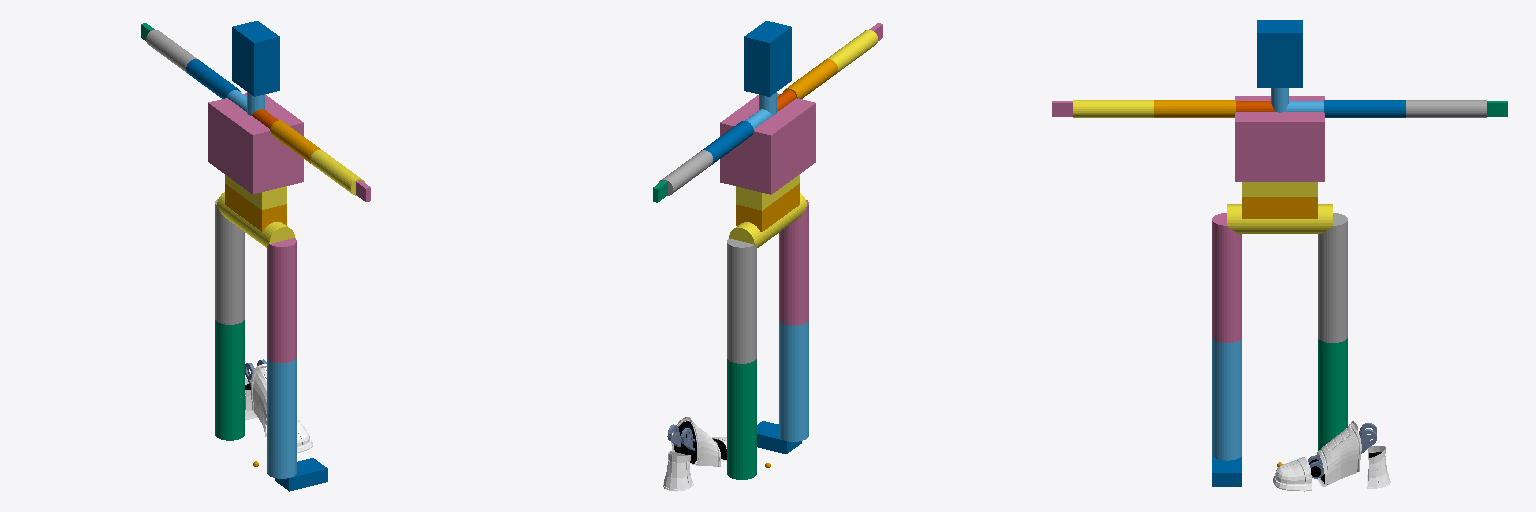
robot.urdf — humanMeshed:
<?xml version="1.0"?>
<robot name="humanMeshed">

  <link name="base_link">
    <visual>
      <geometry>
        <sphere radius="0.01"/>
      </geometry>
    </visual>
  </link>

<!--   HIP starts here  -->
  <link name="hip_roll"/>

  <joint name="hip_roll" type="continuous">
    <parent link="base_link" />
    <child link="hip_roll" />
    <origin xyz="0 0 0.90"/>
    <axis xyz="1.0 0 0"/>
  </joint>

  <link name="hip_pitch">
    
  </link>

  <joint name="hip_pitch" type="continuous">
    <parent link="hip_roll"/>
    <child link="hip_pitch"/>
    <origin xyz="0 0 0"/>
    <axis xyz="0 1.0 0"/>
  </joint>

  <link name="hip_yaw">
        <visual>
      <geometry>  
        <cylinder length="0.352" radius="0.05"/>
     </geometry>
      <origin rpy="1.57075 0 0" xyz="0 0 0" />
    </visual>
  </link>

  <joint name="hip_yaw" type="continuous">
    <parent link="hip_pitch"/>
    <child link="hip_yaw"/>
    <origin xyz="0 0 0"/>
    <axis xyz="0 0 1.0"/>
  </joint>

 <!--           HIP ENDS HERE        -->
 <!--      RIGHT THIGH STARTS HERE    -->
 <joint name="right_thigh_roll" type="continuous">
    <parent link="hip_yaw"/>
    <child link="right_thigh_roll"/>
    <origin xyz="0 -0.175 0"/>
    <axis xyz="1.0 0 0"/>
 </joint>

 <link name="right_thigh_roll"/>

 <joint name="right_thigh_pitch" type="continuous">
    <parent link="right_thigh_roll"/>
    <child link="right_thigh_pitch"/>
    <origin xyz="0 0 0"/>
    <axis xyz="0 1.0 0"/>
 </joint>

 <link name="right_thigh_pitch"/>

 <joint name="right_thigh_yaw" type="continuous">
    <parent link="right_thigh_pitch"/>
    <child link="right_thigh_yaw"/>
    <origin xyz="0 0 0"/>
    <axis xyz="0 0 1.0"/>
 </joint>

  <link name="right_thigh_yaw">
    <visual>
      <geometry>
        <cylinder length="0.43" radius="0.05"/>
      </geometry>      
      <origin rpy="0 0 0" xyz="0 0 -0.215"/>    
    </visual>
  </link>
<!--       RIGHT THIGH ENDS HERE       -->
<!--       RIGHT KNEE STARTS HERE      -->
<joint name="right_knee_roll" type="continuous">
  <parent link="right_thigh_yaw"/>
  <child link="right_knee_roll"/>
  <origin xyz="0 0 -0.43"/>
  <axis xyz="1.0 0 0"/>
</joint>

<link name="right_knee_roll"/>

<joint name="right_knee_pitch" type="continuous">
  <parent link="right_knee_roll"/>
  <child link="right_knee_pitch"/>
  <origin xyz="0 0 0"/>
  <axis xyz="0 1.0 0"/>
</joint>

<link name="right_knee_pitch"/>

<joint name="right_knee_yaw" type="continuous">
  <parent link="right_knee_pitch"/>
  <child link="right_knee_yaw"/>
  <origin xyz="0 0 0"/>
  <axis xyz="0 0 1.0"/>
</joint>

<link name="right_knee_yaw">
  <visual>
    <geometry>
      <cylinder length="0.43" radius="0.05"/>
    </geometry>      
    <origin rpy="0 0 0" xyz="0 0 -0.215"/>    
  </visual>
</link>
<!--         RIGHT KNEE ENDS HERE   -->
<!--         RIGHT FOOT STARTS HERE -->
<joint name="right_foot_roll" type="continuous">
  <parent link="right_knee_yaw"/>
  <child link="right_foot_roll"/>
  <origin xyz="0 0 -0.43"/>
  <axis xyz="1.0 0 0"/>
</joint> 

<link name="right_foot_roll"/>

<joint name="right_foot_pitch" type="continuous">
  <parent link="right_foot_roll"/>
  <child link="right_foot_pitch"/>
  <origin xyz="0 0 0"/>
  <axis xyz="0 1.0 0"/>
</joint> 

<link name="right_foot_pitch"/>

<joint name="right_foot_yaw" type="continuous">
  <parent link="right_foot_pitch"/>
  <child link="right_foot_yaw"/>
  <origin xyz="0 0 0"/>
  <axis xyz="0 0 1.0"/>
</joint> 

<link name="right_foot_yaw">
  <visual>
    <geometry>
        <box size="0.15 0.1 0.05"/>
    </geometry>
    <origin rpy="0 0 0" xyz="0.075 0 -0.025"/>    
   </visual>
</link>

<!--   RIGHT FOOT ENDS HERE   -->
<!--   LEFT THIGH STARTS HERE -->
 <joint name="left_thigh_roll" type="continuous">
    <parent link="hip_yaw"/>
    <child link="left_thigh_roll"/>
    <origin xyz="0 0.175 0"/>
    <axis xyz="1.0 0 0"/>
 </joint>

 <link name="left_thigh_roll"/>

 <joint name="left_thigh_pitch" type="continuous">
    <parent link="left_thigh_roll"/>
    <child link="left_thigh_pitch"/>
    <origin xyz="0 0 0"/>
    <axis xyz="0 1.0 0"/>
 </joint>

 <link name="left_thigh_pitch"/>

 <joint name="left_thigh_yaw" type="continuous">
    <parent link="left_thigh_pitch"/>
    <child link="left_thigh_yaw"/>
    <origin xyz="0 0 0"/>
    <axis xyz="0 0 1.0"/>
 </joint>

  <link name="left_thigh_yaw">
    <visual>
      <geometry>
        <cylinder length="0.43" radius="0.05"/>
        
      </geometry>      
      <origin rpy="0 0 0" xyz="0 0 -0.215"/>    
    </visual>
  </link>
<!--     LEFT THIGH ENDS HERE -->
<!--       LEFT KNEE STARTS HERE      -->
<joint name="left_knee_roll" type="continuous">
  <parent link="left_thigh_yaw"/>
  <child link="left_knee_roll"/>
  <origin xyz="0 0 -0.43"/>
  <axis xyz="1.0 0 0"/>
</joint>

<link name="left_knee_roll"/>

<joint name="left_knee_pitch" type="continuous">
  <parent link="left_knee_roll"/>
  <child link="left_knee_pitch"/>
  <origin xyz="0 0 0"/>
  <axis xyz="0 1.0 0"/>
</joint>

<link name="left_knee_pitch"/>

<joint name="left_knee_yaw" type="continuous">
  <parent link="left_knee_pitch"/>
  <child link="left_knee_yaw"/>
  <origin xyz="0 0 0"/>
  <axis xyz="0 0 1.0"/>
</joint>

<link name="left_knee_yaw">
  <visual>
    <geometry>
      <cylinder length="0.43" radius="0.05"/>
    </geometry>      
    <origin rpy="0 0 0" xyz="0 0 -0.215"/>    
  </visual>
</link>
<!--         left KNEE ENDS HERE   -->
<!--         left FOOT STARTS HERE -->
<joint name="left_foot_roll" type="continuous">
  <parent link="left_knee_yaw"/>
  <child link="left_foot_roll"/>
  <origin xyz="0 0 -0.43"/>
  <axis xyz="1.0 0 0"/>
</joint> 

<link name="left_foot_roll"/>

<joint name="left_foot_pitch" type="continuous">
  <parent link="left_foot_roll"/>
  <child link="left_foot_pitch"/>
  <origin xyz="0 0 0"/>
  <axis xyz="0 1.0 0"/>
</joint> 

<link name="left_foot_pitch"/>

<joint name="left_foot_yaw" type="continuous">
  <parent link="left_foot_pitch"/>
  <child link="left_foot_yaw"/>
  <origin xyz="0 0 0"/>
  <axis xyz="0 0 1.0"/>
</joint> 

<link name="left_foot_yaw">
  <visual>
    <geometry>
      <!--
        <box size="0.15 0.1 0.05"/>
      -->
      <mesh filename="package://online_tempo/models/humanMeshed/meshes/leftFoot.dae" scale="0.1 0.1 0.1"/>
    </geometry>
    <origin rpy="0 0 0" xyz="0.075 0 -0.025"/>    
   </visual>
</link>
<!--   left FOOT ENDS HERE   -->
<!--   lower_spine STARTS HERE   -->
<joint name="lower_spine_roll" type="continuous">
  <parent link="hip_yaw"/>
  <child link="lower_spine_roll"/>
  <origin xyz="0 0 0.025"/>
  <axis xyz="1.0 0 0"/>
</joint>

<link name="lower_spine_roll"/>

<joint name="lower_spine_pitch" type="continuous">
  <parent link="lower_spine_roll"/>
  <child link="lower_spine_pitch"/>
  <origin xyz="0 0 0"/>
  <axis xyz="0 1.0 0"/>
</joint>

<link name="lower_spine_pitch"/>

<joint name="lower_spine_yaw" type="continuous">
  <parent link="lower_spine_pitch"/>
  <child link="lower_spine_yaw"/>
  <origin xyz="0 0 0"/>
  <axis xyz="0 0 1.0"/>
</joint>


<link name="lower_spine_yaw">
  <visual>
    <geometry>
        <box size="0.10 0.25 0.08"/>
    </geometry>
    <origin rpy="0 0 0" xyz="0 0 0.04"/>    
  </visual>
</link>

<!--  lower_spine ENDS HERE     -->
<!--  middle_spine Starts here  -->
<joint name="middle_spine_roll" type="continuous">
  <parent link="lower_spine_yaw"/>
  <child link="middle_spine_roll"/>
  <origin xyz="0 0 0.08"/>
  <axis xyz="1.0 0 0"/>
</joint>

<link name="middle_spine_roll"/>

<joint name="middle_spine_pitch" type="continuous">
  <parent link="middle_spine_roll"/>
  <child link="middle_spine_pitch"/>
  <origin xyz="0 0 0"/>
  <axis xyz="0 1.0 0"/>
</joint>

<link name="middle_spine_pitch"/>

<joint name="middle_spine_yaw" type="continuous">
  <parent link="middle_spine_pitch"/>
  <child link="middle_spine_yaw"/>
  <origin xyz="0 0 0"/>
  <axis xyz="0 0 1.0"/>
</joint>

<link name="middle_spine_yaw">
  <visual>
    <geometry>
        <box size="0.10 0.25 0.08"/>
    </geometry>
    <origin rpy="0 0 0" xyz="0 0 0.04"/>    
  </visual>
</link>

<!--  middle_spine Ends here    -->
<!--  CHEST STARTS HERE     -->
<joint name="chest_roll" type="continuous">
  <parent link="middle_spine_yaw"/>
  <child link="chest_roll"/>
  <origin xyz="0 0 0.08"/>
  <axis xyz="1.0 0 0"/>
</joint>

<link name="chest_roll"/>

<joint name="chest_pitch" type="continuous">
  <parent link="chest_roll"/>
  <child link="chest_pitch"/>
  <origin xyz="0 0 0"/>
  <axis xyz="0 1.0 0"/>
</joint>

<link name="chest_pitch"/>

<joint name="chest_yaw" type="continuous">
  <parent link="chest_pitch"/>
  <child link="chest_yaw"/>
  <origin xyz="0 0 0"/>
  <axis xyz="0 0 1.0"/>
</joint>

<link name="chest_yaw">
  <visual>
    <geometry>
        <box size="0.20 0.30 0.22"/>
    </geometry>
    <origin rpy="0 0 0" xyz="0 0 0.11"/>    
  </visual>
</link>
<!--     Chest ends here            -->
<!--     left clavicle starts here  -->
<joint name="left_clavicle_roll" type="continuous">
  <parent link="chest_yaw"/>
  <child link="left_clavicle_roll"/>
  <origin xyz="0 0.0125 0.22"/>
  <axis xyz="1.0 0 0"/>
</joint>

<link name="left_clavicle_roll"/>

<joint name="left_clavicle_pitch" type="continuous">
  <parent link="left_clavicle_roll"/>
  <child link="left_clavicle_pitch"/>
  <origin xyz="0 0 0"/>
  <axis xyz="0 1.0 0"/>
</joint>

<link name="left_clavicle_pitch"/>

<joint name="left_clavicle_yaw" type="continuous">
  <parent link="left_clavicle_pitch"/>
  <child link="left_clavicle_yaw"/>
  <origin xyz="0 0 0"/>
  <axis xyz="0 0 1.0"/>
</joint>

<link name="left_clavicle_yaw">
  <visual>
    <geometry>
      <cylinder length="0.135" radius="0.025"/> 
    </geometry>
    <origin rpy="1.57075 0 0" xyz="0 0.067 0" />
  </visual>
</link>
<!-- left clavicle ends here   -->
<!-- left shoulder starts here -->
<joint name="left_shoulder_roll" type="continuous">
  <parent link="left_clavicle_yaw"/>
  <child link="left_shoulder_roll"/>
  <origin xyz="0 0.135 0"/>
  <axis xyz="1.0 0 0"/>
</joint>

<link name="left_shoulder_roll"/>

<joint name="left_shoulder_pitch" type="continuous">
  <parent link="left_shoulder_roll"/>
  <child link="left_shoulder_pitch"/>
  <origin xyz="0 0 0"/>
  <axis xyz="0 1.0 0"/>
</joint>

<link name="left_shoulder_pitch"/>

<joint name="left_shoulder_yaw" type="continuous">
  <parent link="left_shoulder_pitch"/>
  <child link="left_shoulder_yaw"/>
  <origin xyz="0 0 0"/>
  <axis xyz="0 0 1.0"/>
</joint>

<link name="left_shoulder_yaw">
  <visual>
    <geometry>
      <cylinder length="0.27" radius="0.030"/> 
    </geometry>
    <origin rpy="1.57075 0 0" xyz="0 0.135 0" />
  </visual>
</link>
<!-- left shoulder ends here -->
<!-- left elbow starts here -->
<joint name="left_elbow_roll" type="continuous">
  <parent link="left_shoulder_yaw"/>
  <child link="left_elbow_roll"/>
  <origin xyz="0 0.27 0"/>
  <axis xyz="1.0 0 0"/>
</joint>

<link name="left_elbow_roll"/>

<joint name="left_elbow_pitch" type="continuous">
  <parent link="left_elbow_roll"/>
  <child link="left_elbow_pitch"/>
  <origin xyz="0 0 0"/>
  <axis xyz="0 1.0 0"/>
</joint>

<link name="left_elbow_pitch"/>

<joint name="left_elbow_yaw" type="continuous">
  <parent link="left_elbow_pitch"/>
  <child link="left_elbow_yaw"/>
  <origin xyz="0 0 0"/>
  <axis xyz="0 0 1.0"/>
</joint>

<link name="left_elbow_yaw">
  <visual>
    <geometry>
      <cylinder length="0.27" radius="0.030"/> 
    </geometry>
    <origin rpy="1.57075 0 0" xyz="0 0.135 0" />
  </visual>
</link>
<!-- left elbow ends here   -->
<!-- left hand starts here  -->
<joint name="left_hand_roll" type="continuous">
  <parent link="left_elbow_yaw"/>
  <child link="left_hand_roll"/>
  <origin xyz="0 0.24 0"/>
  <axis xyz="1.0 0 0"/>
</joint>

<link name="left_hand_roll"/>

<joint name="left_hand_pitch" type="continuous">
  <parent link="left_hand_roll"/>
  <child link="left_hand_pitch"/>
  <origin xyz="0 0 0"/>
  <axis xyz="0 1.0 0"/>
</joint>

<link name="left_hand_pitch"/>

<joint name="left_hand_yaw" type="continuous">
  <parent link="left_hand_pitch"/>
  <child link="left_hand_yaw"/>
  <origin xyz="0 0 0"/>
  <axis xyz="0 0 1.0"/>
</joint>

<link name="left_hand_yaw">
  <visual>
    <geometry>
      <box size="0.02 0.10 0.05"/> 
    </geometry>
    <origin xyz="0 0.05 0" />
  </visual>
</link>
<!-- left hand ends here    -->

<joint name="right_clavicle_roll" type="continuous">
  <parent link="chest_yaw"/>
  <child link="right_clavicle_roll"/>
  <origin xyz="0 -0.0125 0.22"/>
  <axis xyz="1.0 0 0"/>
</joint>

<link name="right_clavicle_roll"/>

<joint name="right_clavicle_pitch" type="continuous">
  <parent link="right_clavicle_roll"/>
  <child link="right_clavicle_pitch"/>
  <origin xyz="0 0 0"/>
  <axis xyz="0 1.0 0"/>
</joint>

<link name="right_clavicle_pitch"/>

<joint name="right_clavicle_yaw" type="continuous">
  <parent link="right_clavicle_pitch"/>
  <child link="right_clavicle_yaw"/>
  <origin xyz="0 0 0"/>
  <axis xyz="0 0 1.0"/>
</joint>

<link name="right_clavicle_yaw">
  <visual>
    <geometry>
      <cylinder length="0.135" radius="0.025"/> 
    </geometry>
    <origin rpy="1.57075 0 0" xyz="0 -0.067 0" />
  </visual>
</link>
<!-- right clavicle ends here   -->
<!-- right shoulder starts here -->
<joint name="right_shoulder_roll" type="continuous">
  <parent link="right_clavicle_yaw"/>
  <child link="right_shoulder_roll"/>
  <origin xyz="0 -0.135 0"/>
  <axis xyz="1.0 0 0"/>
</joint>

<link name="right_shoulder_roll"/>

<joint name="right_shoulder_pitch" type="continuous">
  <parent link="right_shoulder_roll"/>
  <child link="right_shoulder_pitch"/>
  <origin xyz="0 0 0"/>
  <axis xyz="0 1.0 0"/>
</joint>

<link name="right_shoulder_pitch"/>

<joint name="right_shoulder_yaw" type="continuous">
  <parent link="right_shoulder_pitch"/>
  <child link="right_shoulder_yaw"/>
  <origin xyz="0 0 0"/>
  <axis xyz="0 0 1.0"/>
</joint>

<link name="right_shoulder_yaw">
  <visual>
    <geometry>
      <cylinder length="0.27" radius="0.030"/> 
    </geometry>
    <origin rpy="1.57075 0 0" xyz="0 -0.135 0" />
  </visual>
</link>
<!-- right shoulder ends here -->
<!-- right elbow starts here -->
<joint name="right_elbow_roll" type="continuous">
  <parent link="right_shoulder_yaw"/>
  <child link="right_elbow_roll"/>
  <origin xyz="0 -0.27 0"/>
  <axis xyz="1.0 0 0"/>
</joint>

<link name="right_elbow_roll"/>

<joint name="right_elbow_pitch" type="continuous">
  <parent link="right_elbow_roll"/>
  <child link="right_elbow_pitch"/>
  <origin xyz="0 0 0"/>
  <axis xyz="0 1.0 0"/>
</joint>

<link name="right_elbow_pitch"/>

<joint name="right_elbow_yaw" type="continuous">
  <parent link="right_elbow_pitch"/>
  <child link="right_elbow_yaw"/>
  <origin xyz="0 0 0"/>
  <axis xyz="0 0 1.0"/>
</joint>

<link name="right_elbow_yaw">
  <visual>
    <geometry>
      <cylinder length="0.27" radius="0.030"/> 
    </geometry>
    <origin rpy="1.57075 0 0" xyz="0 -0.135 0" />
  </visual>
</link>
<!-- right elbow ends here   -->
<!-- right hand starts here  -->
<joint name="right_hand_roll" type="continuous">
  <parent link="right_elbow_yaw"/>
  <child link="right_hand_roll"/>
  <origin xyz="0 -0.24 0"/>
  <axis xyz="1.0 0 0"/>
</joint>

<link name="right_hand_roll"/>

<joint name="right_hand_pitch" type="continuous">
  <parent link="right_hand_roll"/>
  <child link="right_hand_pitch"/>
  <origin xyz="0 0 0"/>
  <axis xyz="0 1.0 0"/>
</joint>

<link name="right_hand_pitch"/>

<joint name="right_hand_yaw" type="continuous">
  <parent link="right_hand_pitch"/>
  <child link="right_hand_yaw"/>
  <origin xyz="0 0 0"/>
  <axis xyz="0 0 1.0"/>
</joint>

<link name="right_hand_yaw">
  <visual>
    <geometry>
      <box size="0.02 0.10 0.05"/> 
    </geometry>
    <origin xyz="0 -0.05 0" />
  </visual>
</link>
<!-- right hand ends here    -->

<!-- neck starts here   -->
<joint name="neck_roll" type="continuous">
  <parent link="chest_yaw"/>
  <child link="neck_roll"/>
  <origin xyz="0 0 0.22"/>
  <axis xyz="1.0 0 0"/>
</joint>

<link name="neck_roll"/>

<joint name="neck_pitch" type="continuous">
  <parent link="neck_roll"/>
  <child link="neck_pitch"/>
  <origin xyz="0 0 0"/>
  <axis xyz="0 1.0 0"/>
</joint>

<link name="neck_pitch"/>

<joint name="neck_yaw" type="continuous">
  <parent link="neck_pitch"/>
  <child link="neck_yaw"/>
  <origin xyz="0 0 0"/>
  <axis xyz="0 0 1.0"/>
</joint>

<link name="neck_yaw">
  <visual>
    <geometry>
      <cylinder length="0.10" radius="0.03"/> 
    </geometry>
    <origin xyz="0 0 0.05" />
  </visual>
</link>
<!-- neck ends here -->
<!-- head starts here -->
<joint name="head_roll" type="continuous">
  <parent link="neck_yaw"/>
  <child link="head_roll"/>
  <origin xyz="0 0 0.10"/>
  <axis xyz="1.0 0 0"/>
</joint>

<link name="head_roll"/>

<joint name="head_pitch" type="continuous">
  <parent link="head_roll"/>
  <child link="head_pitch"/>
  <origin xyz="0 0 0"/>
  <axis xyz="0 1.0 0"/>
</joint>

<link name="head_pitch"/>

<joint name="head_yaw" type="continuous">
  <parent link="head_pitch"/>
  <child link="head_yaw"/>
  <origin xyz="0 0 0"/>
  <axis xyz="0 0 1.0"/>
</joint>

<link name="head_yaw">
  <visual>
    <geometry>
      <box size="0.10 0.15 0.20"/> 
    </geometry>
    <origin xyz="0 0 0.10" />
  </visual>
</link>
<!-- head ends here -->
</robot>

--- Facts derived from the render (not from the file) ---
3 views of the same robot in one strip: view 1: azimuth 30°, elevation 25°; view 2: azimuth 150°, elevation 25°; view 3: azimuth 270°, elevation 25° (orthographic).
Model humanMeshed with 61 links and 60 joints (60 continuous), rooted at base_link, posed every joint at zero.
Visible links, largest first — view 1: chest_yaw, right_thigh_yaw, right_knee_yaw, left_knee_yaw, head_yaw, left_thigh_yaw, left_foot_yaw, lower_spine_yaw, hip_yaw, right_foot_yaw, right_elbow_yaw, left_shoulder_yaw (+3 smaller); view 2: chest_yaw, left_thigh_yaw, right_knee_yaw, left_knee_yaw, head_yaw, right_thigh_yaw, left_foot_yaw, lower_spine_yaw, hip_yaw, left_elbow_yaw, right_shoulder_yaw, left_shoulder_yaw (+3 smaller); view 3: chest_yaw, left_foot_yaw, right_thigh_yaw, left_thigh_yaw, right_knee_yaw, head_yaw, left_knee_yaw, hip_yaw, lower_spine_yaw, left_shoulder_yaw, right_shoulder_yaw, left_elbow_yaw (+3 smaller).
Boxes of the visible links, box(x1,y1,x2,y2) form: chest_yaw: box(208, 93, 303, 193); right_thigh_yaw: box(267, 238, 296, 362); right_knee_yaw: box(267, 358, 296, 478); left_knee_yaw: box(215, 320, 244, 440); head_yaw: box(232, 21, 279, 96); left_thigh_yaw: box(215, 199, 244, 324); left_foot_yaw: box(245, 359, 312, 452); lower_spine_yaw: box(225, 184, 286, 231); hip_yaw: box(217, 192, 294, 247); right_foot_yaw: box(275, 458, 327, 491); right_elbow_yaw: box(310, 150, 365, 195); left_shoulder_yaw: box(186, 59, 240, 98); chest_yaw: box(720, 93, 815, 194); left_thigh_yaw: box(727, 239, 756, 363); right_knee_yaw: box(779, 321, 808, 441); left_knee_yaw: box(727, 359, 756, 479); head_yaw: box(744, 21, 791, 96); right_thigh_yaw: box(779, 200, 808, 325); left_foot_yaw: box(663, 417, 726, 491); lower_spine_yaw: box(736, 183, 799, 231); hip_yaw: box(729, 193, 806, 247); left_elbow_yaw: box(658, 150, 712, 195); right_shoulder_yaw: box(783, 59, 837, 98); left_shoulder_yaw: box(701, 121, 753, 164); chest_yaw: box(1235, 96, 1324, 181); left_foot_yaw: box(1273, 421, 1390, 491); right_thigh_yaw: box(1212, 213, 1241, 342); left_thigh_yaw: box(1318, 213, 1347, 342); right_knee_yaw: box(1212, 338, 1241, 460); head_yaw: box(1257, 20, 1302, 87); left_knee_yaw: box(1318, 338, 1347, 450); hip_yaw: box(1227, 204, 1332, 233); lower_spine_yaw: box(1242, 197, 1317, 218); left_shoulder_yaw: box(1324, 100, 1405, 117); right_shoulder_yaw: box(1154, 100, 1235, 117); left_elbow_yaw: box(1406, 100, 1486, 117).
Bounding box of the posed robot: 0.3409 × 1.51 × 1.61 m (x, y, z).
Meshes: 1 distinct files referenced, 1 mesh visuals loaded (1 Collada DAE).
